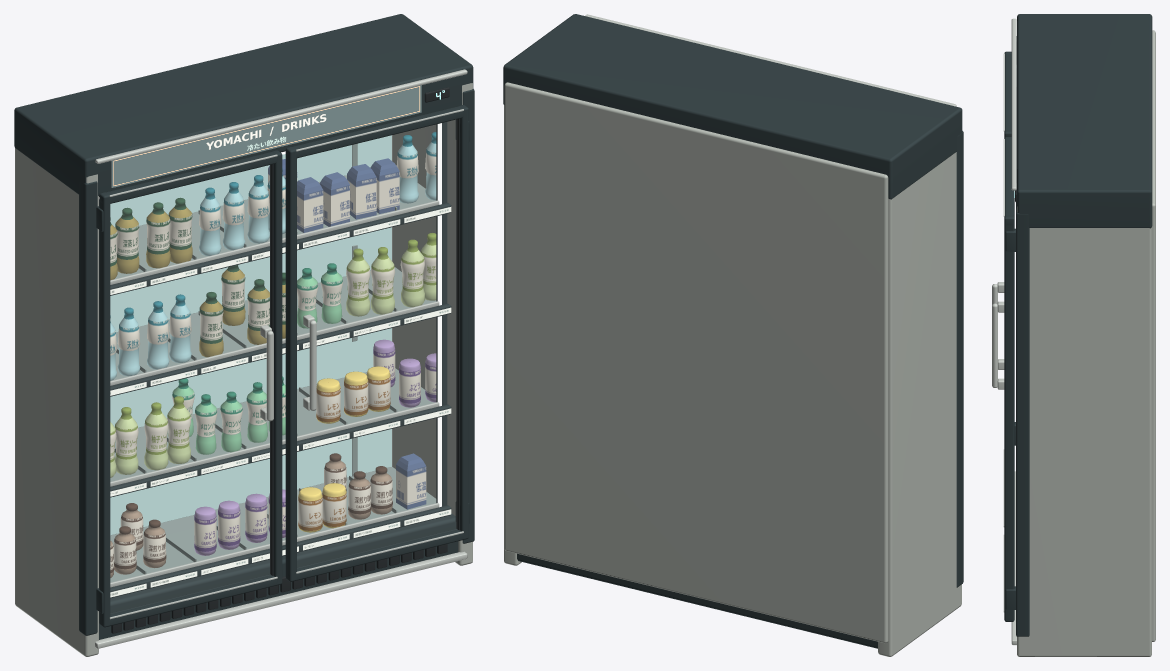
File: yomachi-cooler.glb
The picture shows the model from 3 angles, left to right: view 1: azimuth 30°, elevation 25°; view 2: azimuth 150°, elevation 25°; view 3: azimuth 270°, elevation 25°; orthographic projection. The views are drawn at different scales.
Parts seen in each view (by area): view 1: Cabinet / Graphite powder coat, Cabinet / Warm enamel, Liner, Cabinet / Aisle sign and price atlas, Cabinet / Satin shelf steel, Door_L / Graphite powder coat, Door_R / Graphite powder coat, Cabinet / Brushed aluminum trim, Cabinet / EPDM gasket, Door_L / Brushed aluminum trim, Door_R / Brushed aluminum trim, Cabinet / Frosted neutral LED (+48 smaller); view 2: Cabinet / Warm enamel, Cabinet / Graphite powder coat, Cabinet / Brushed aluminum trim; view 3: Cabinet / Warm enamel, Cabinet / Graphite powder coat, Door_R / Graphite powder coat, Cabinet / Brushed aluminum trim, Door_R / Brushed aluminum trim, Door_L / Graphite powder coat, Door_L / Brushed aluminum trim.
Boxes of the visible parts, <box> form: Cabinet / Graphite powder coat: <box>14,14,474,639</box>; Cabinet / Warm enamel: <box>15,83,472,656</box>; Liner: <box>110,135,391,535</box>; Cabinet / Aisle sign and price atlas: <box>110,85,451,597</box>; Cabinet / Satin shelf steel: <box>110,143,436,582</box>; Door_L / Graphite powder coat: <box>96,150,282,627</box>; Door_R / Graphite powder coat: <box>285,105,469,581</box>; Cabinet / Brushed aluminum trim: <box>95,69,467,648</box>; Cabinet / EPDM gasket: <box>111,87,449,633</box>; Door_L / Brushed aluminum trim: <box>109,154,277,619</box>; Door_R / Brushed aluminum trim: <box>296,109,463,573</box>; Cabinet / Frosted neutral LED: <box>99,123,441,507</box>; Cabinet / Warm enamel: <box>504,82,961,656</box>; Cabinet / Graphite powder coat: <box>503,14,963,648</box>; Cabinet / Brushed aluminum trim: <box>585,14,956,106</box>; Cabinet / Warm enamel: <box>1017,30,1155,656</box>; Cabinet / Graphite powder coat: <box>1016,14,1152,636</box>; Door_R / Graphite powder coat: <box>1004,137,1015,621</box>; Cabinet / Brushed aluminum trim: <box>1011,18,1016,645</box>; Door_R / Brushed aluminum trim: <box>992,139,1004,612</box>; Door_L / Graphite powder coat: <box>1004,51,1016,445</box>; Door_L / Brushed aluminum trim: <box>992,53,1004,526</box>.
Size of the model in its own units: 1.87 by 2.29 by 0.728.
Materials: 12 (3 with a texture image).
